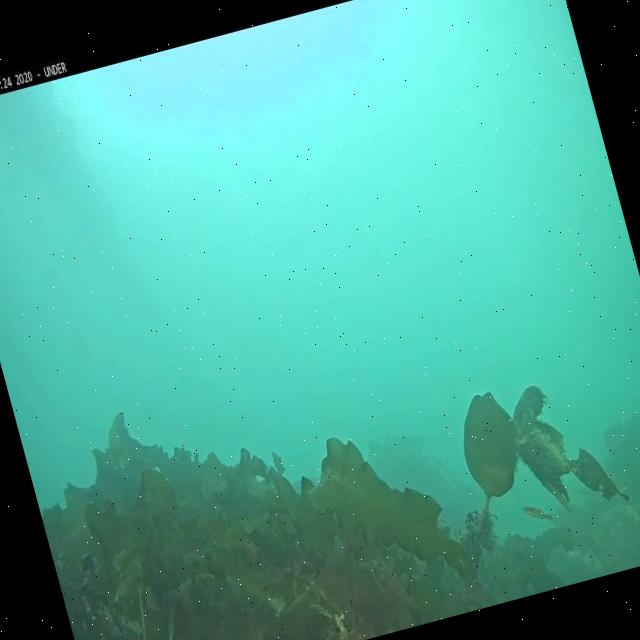fish: (521, 500, 555, 528)
